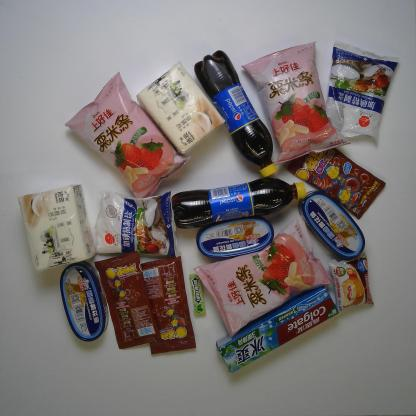Candy: (283, 144, 387, 222), (92, 249, 164, 350), (138, 254, 198, 356)
Canned Food: (297, 188, 366, 260), (56, 258, 110, 343), (195, 214, 276, 260)
Dessert: (326, 252, 376, 313)
Drink: (192, 48, 279, 178), (170, 172, 308, 231)
Gum: (187, 270, 207, 318)
Personal Hygiene: (214, 284, 341, 374)
Puffed Food: (191, 214, 336, 338), (60, 69, 192, 201), (237, 37, 354, 167)
Seasoner: (324, 38, 401, 146), (90, 188, 178, 260)
Tissue: (134, 58, 228, 160), (16, 182, 97, 275)
